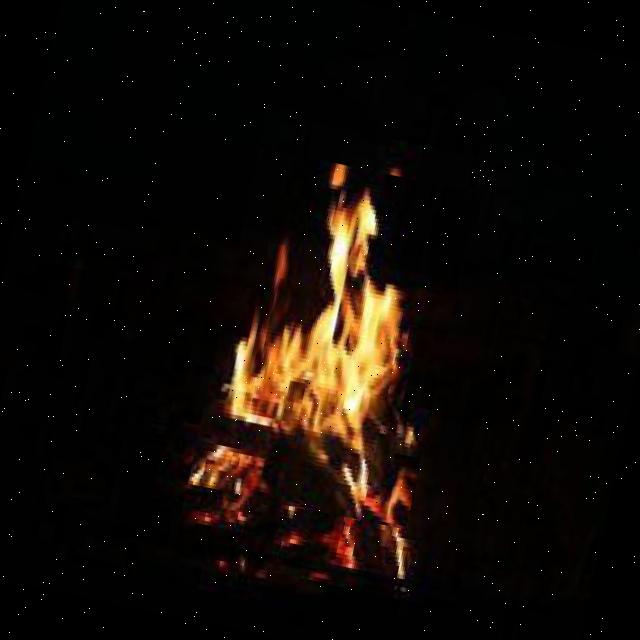fire: (187, 146, 477, 530)
